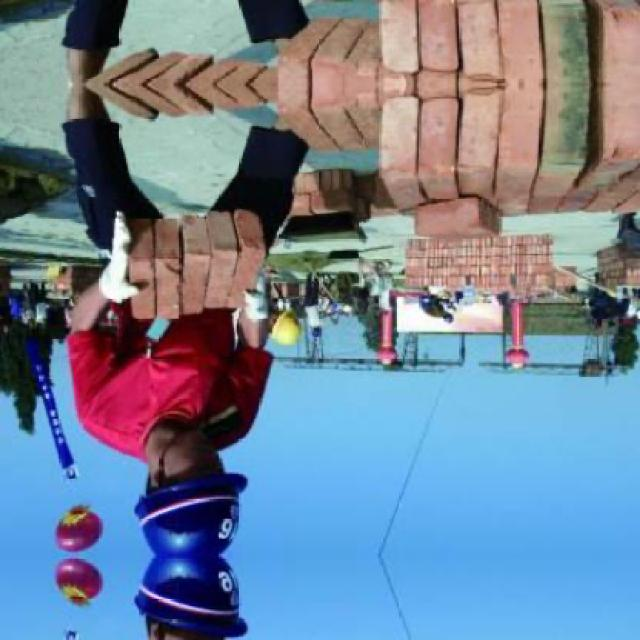safetyhelmet: (131, 451, 252, 559)
